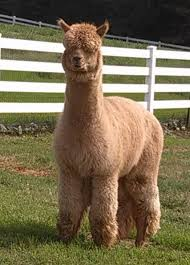alpaca: (50, 18, 163, 249)
